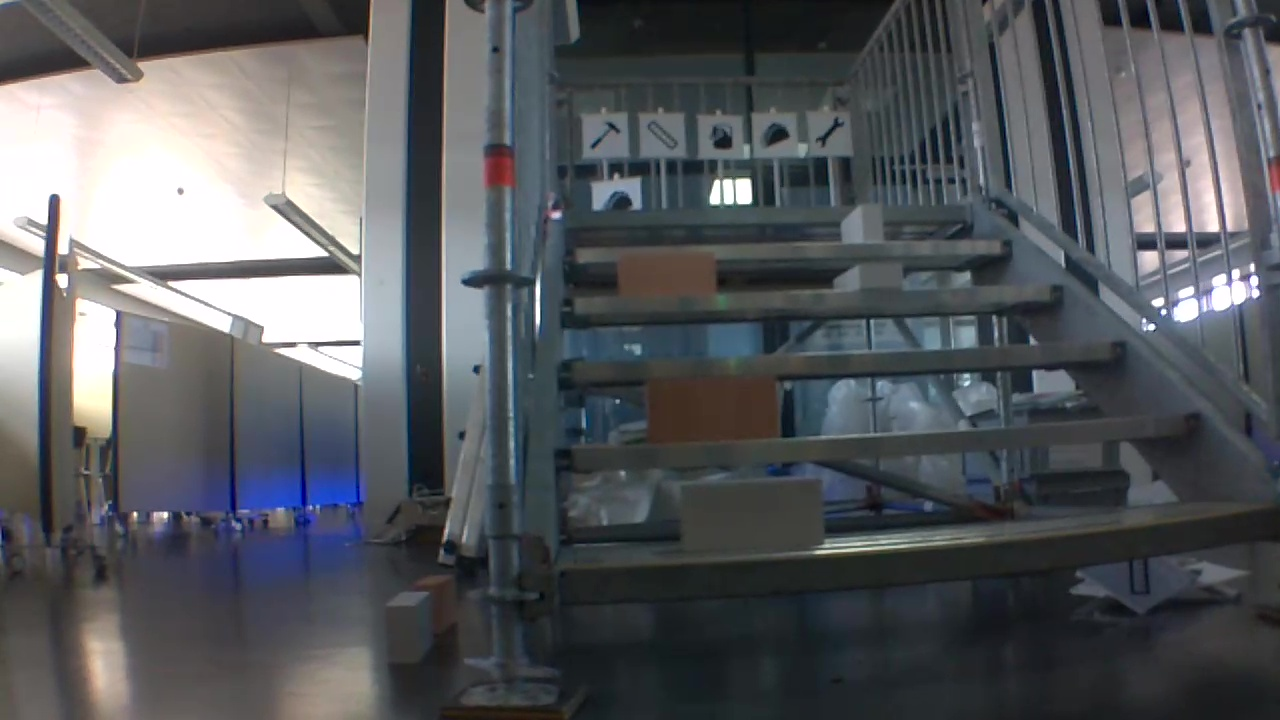brick: (683, 478, 820, 550), (650, 375, 778, 437), (619, 252, 715, 296), (384, 593, 428, 662), (418, 573, 455, 628), (833, 262, 902, 288), (839, 204, 882, 243)
bucket: (704, 121, 736, 153)
edge: (564, 505, 1276, 604), (554, 413, 1198, 470), (558, 338, 1126, 381), (559, 283, 1064, 312), (563, 238, 1013, 261), (566, 205, 972, 225)
hammer: (585, 115, 623, 153)
ruler: (642, 117, 682, 151)
stairs: (435, 4, 1280, 720)
steps: (553, 201, 1280, 628)
taco: (754, 117, 793, 149), (595, 184, 636, 210)
wrench: (812, 112, 848, 150)
